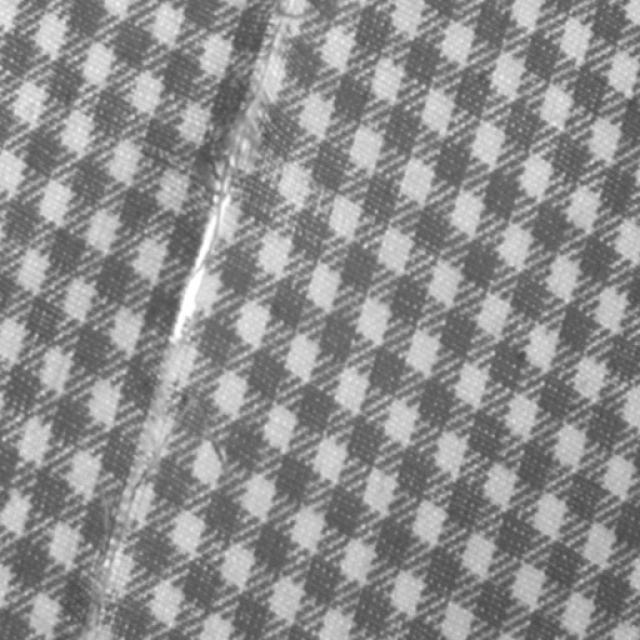Hole-Defect: (84, 5, 307, 638)
